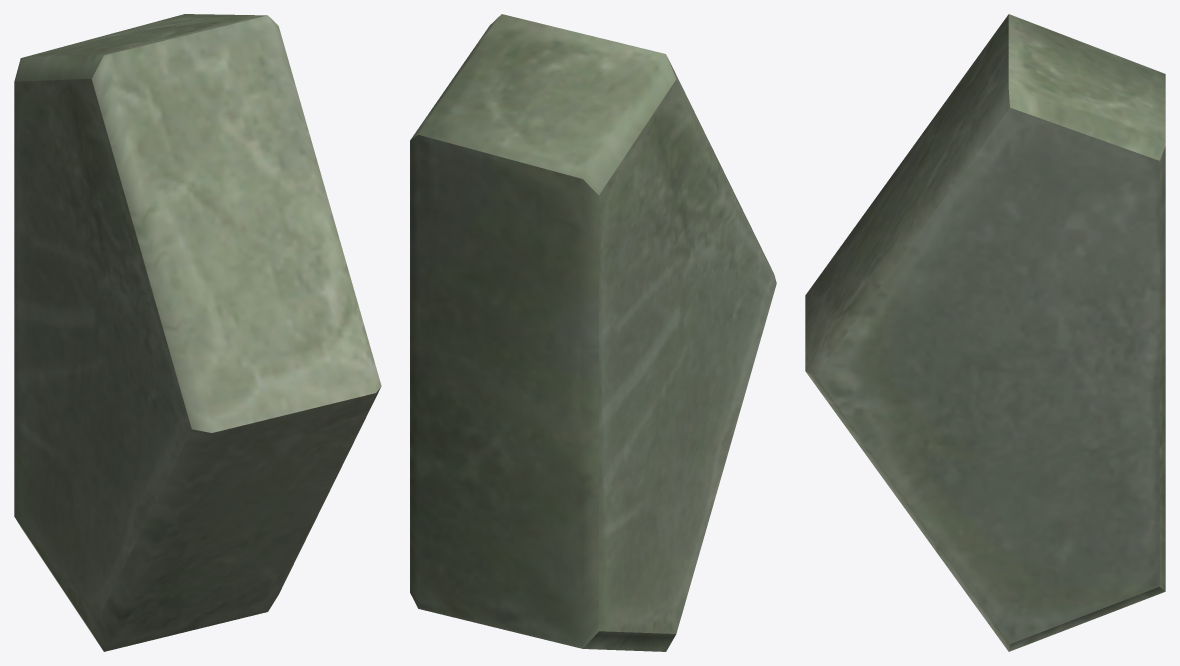
Rendered from Ruins_Trim_Cap_1M_A.fbx.
3 views of the same model, side by side, from view 1: azimuth 30°, elevation 25°; view 2: azimuth 150°, elevation 25°; view 3: azimuth 270°, elevation 25° (orthographic). The views are drawn at different scales.
Visible parts, largest first — view 1: Ruins_Trim_Cap_1M_A; view 2: Ruins_Trim_Cap_1M_A; view 3: Ruins_Trim_Cap_1M_A.
Boxes of the visible parts, box(x1,y1,x2,y2) form: Ruins_Trim_Cap_1M_A: box(14, 14, 381, 651); Ruins_Trim_Cap_1M_A: box(410, 14, 776, 651); Ruins_Trim_Cap_1M_A: box(805, 14, 1165, 651).
Bounding box in the file's own units: 102 × 312 × 181.
